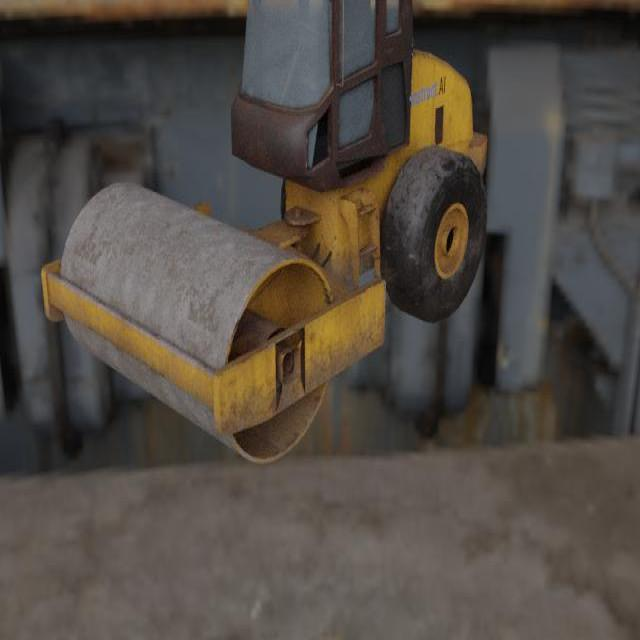Roller: (40, 0, 487, 465)
